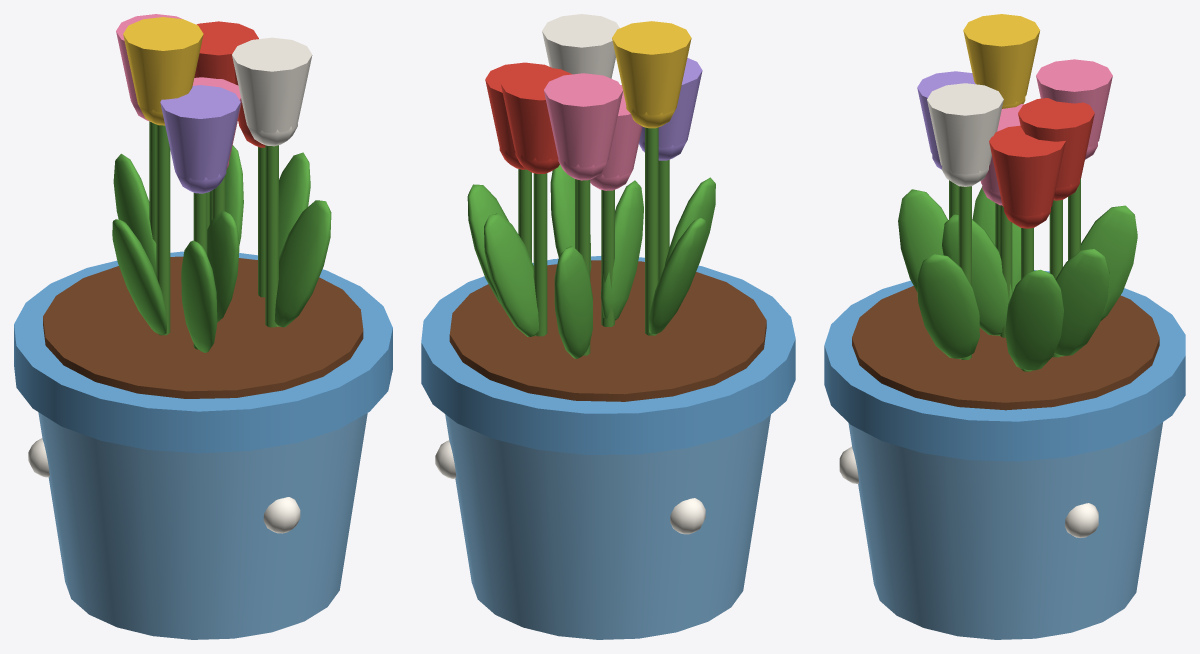
The model's file is plant-tulips.glb.
3 renders of one model, left to right at view 1: azimuth 30°, elevation 25°; view 2: azimuth 150°, elevation 25°; view 3: azimuth 270°, elevation 25°, orthographic. The views are drawn at different scales.
Bounding box in the file's own units: 0.6585 × 1.07 × 0.6569.
